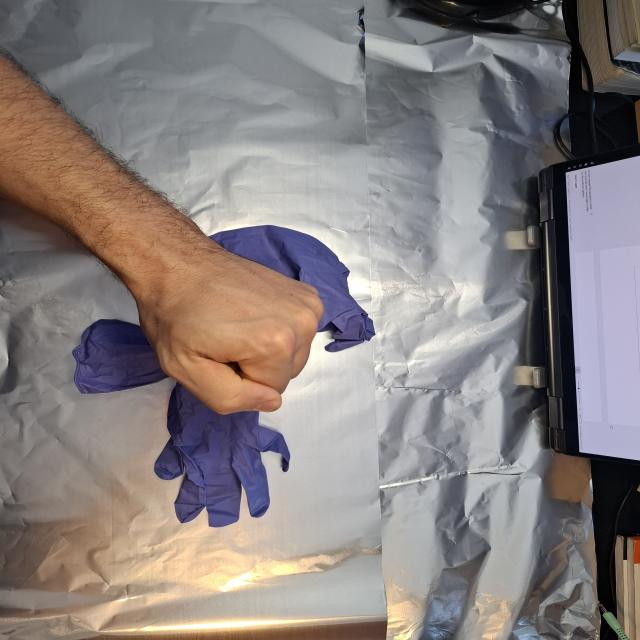glove_off: (133, 238, 326, 416)
